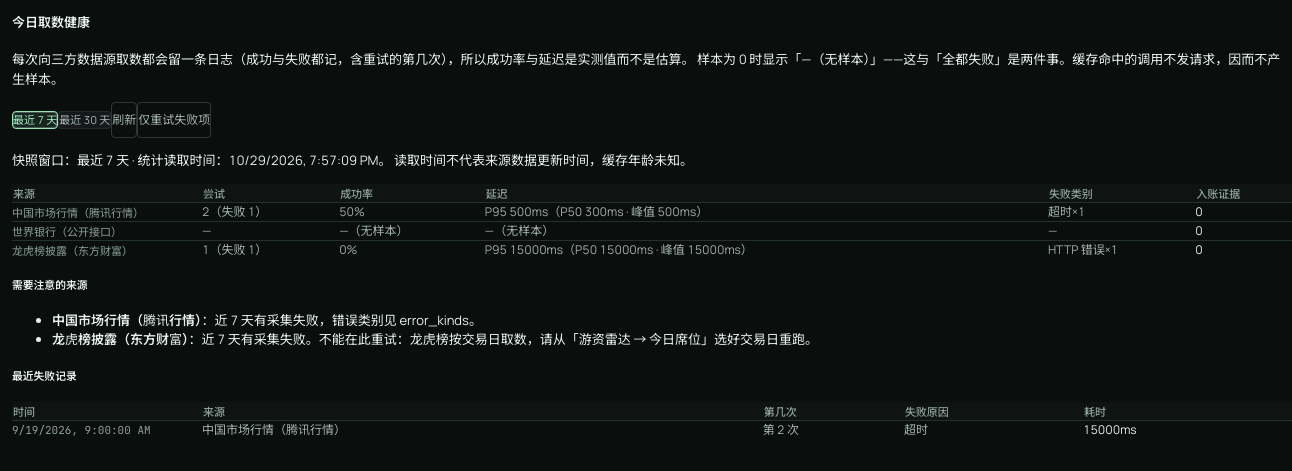
Test case: F02/F03 今日取数健康 › 断连保留并标注旧快照，恢复读取后才允许重试来源
Expected: the text "50%" is shown, 339,202 -> 485,221
What coordinates should you click on to do the following:
click the button "刷新"
I would click on:
 (124, 120)
Its box is 111,102 -> 137,138.
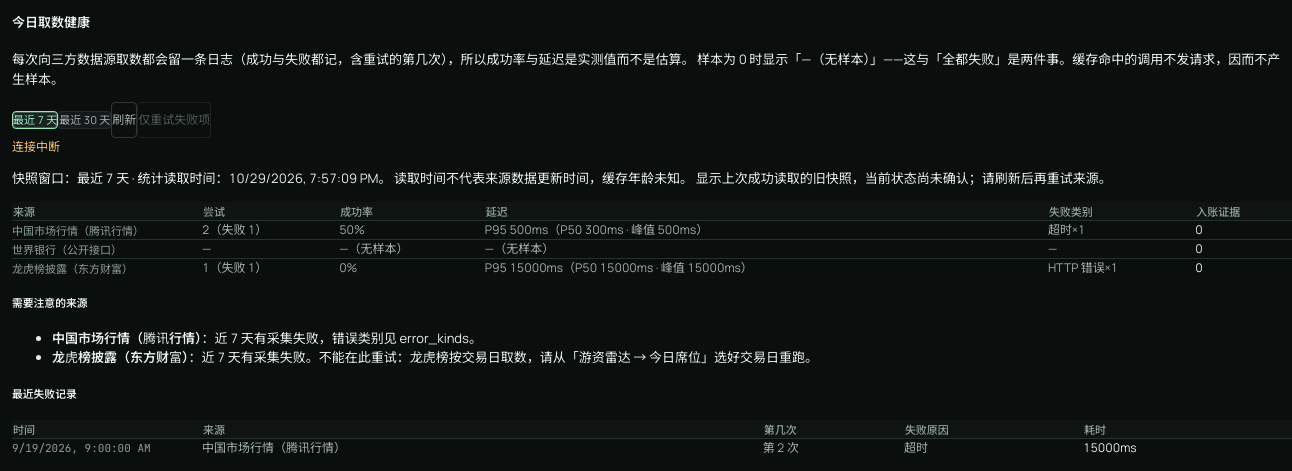
Result: the message "连接中断" is shown at 12,138 -> 60,155
Result: the text "显示上次成功读取的旧快照" is shown at 693,169 -> 1112,187
Result: the button "仅重试失败项" is disabled at 137,102 -> 211,138
What coordinates should you click on to do the following:
click the button "刷新"
I would click on:
 (124, 120)
Its box is 111,102 -> 137,138.
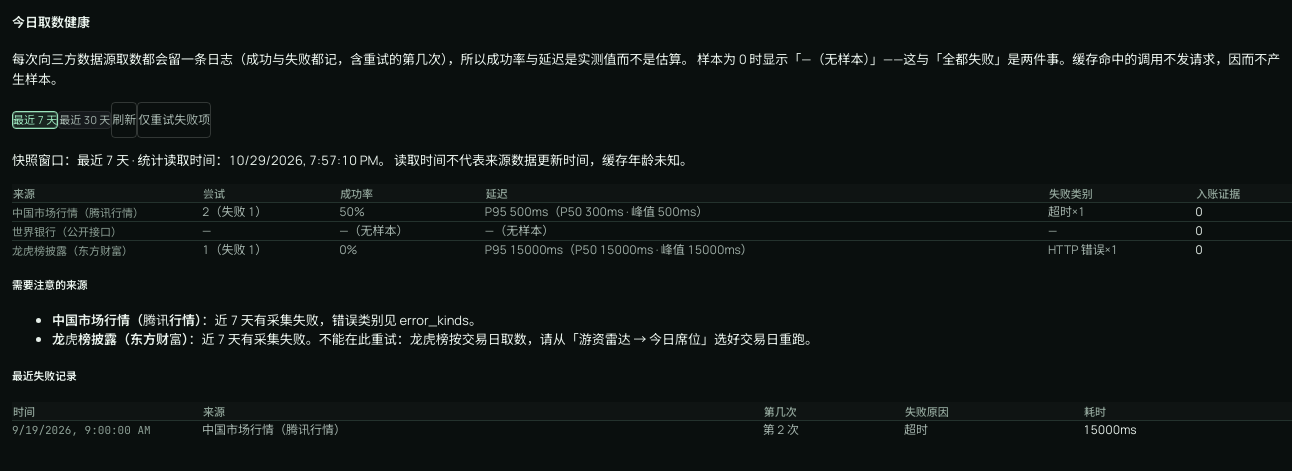
Result: the text "显示上次成功读取的旧快照" is gone
Result: the button "仅重试失败项" is enabled at 137,102 -> 211,138
